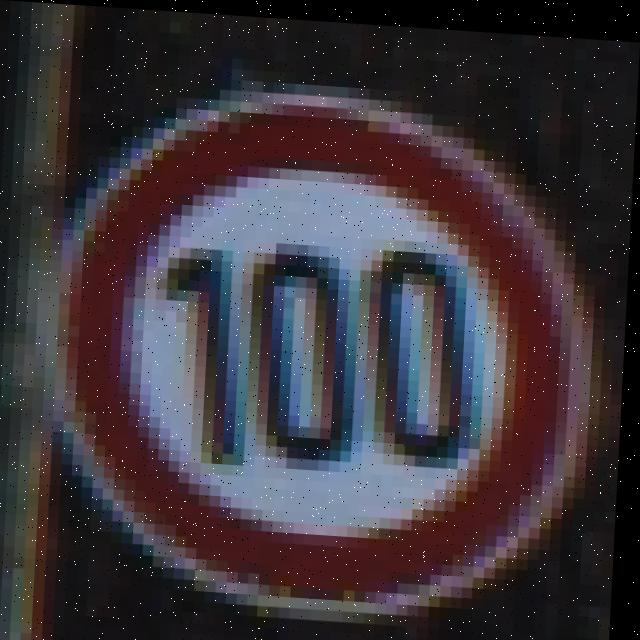speed_limit_100: (60, 83, 589, 622)
